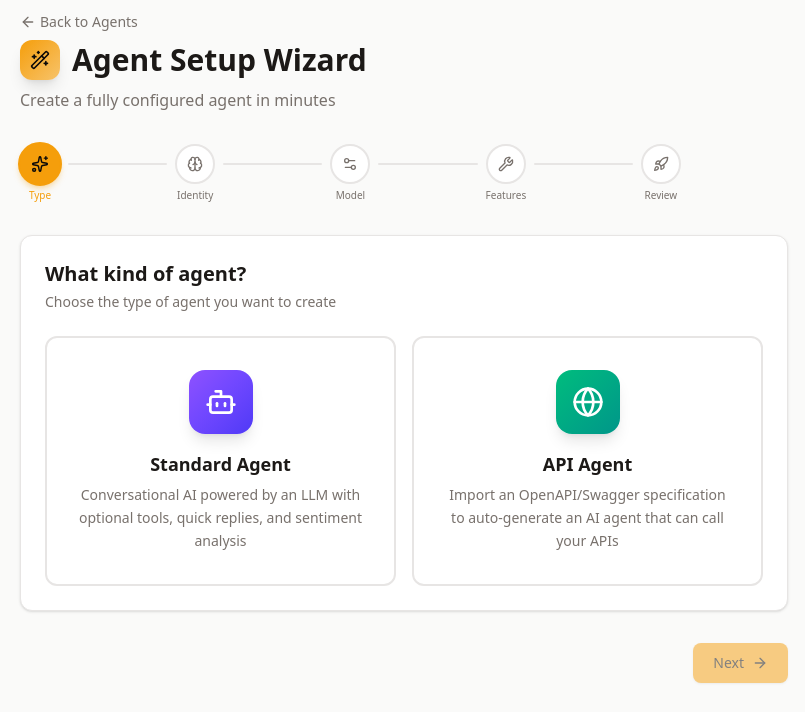
AgentWizardPage › back button navigates to previous step
This screenshot has width=805, height=712.
Click the button with test id "type-standard" at (220, 461), box [45,336,396,586]
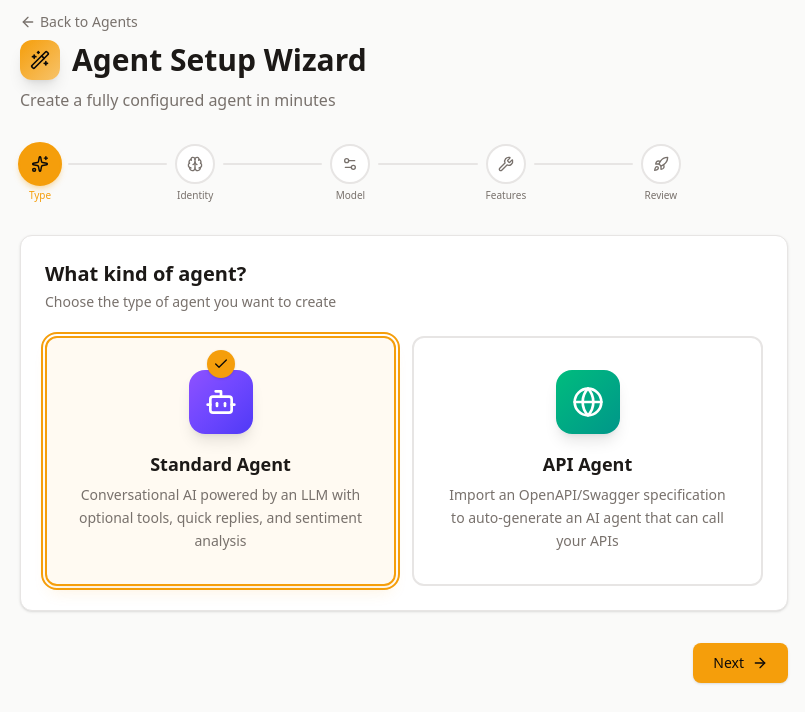
Click the button with test id "wizard-next" at (741, 663), box [693,643,788,683]
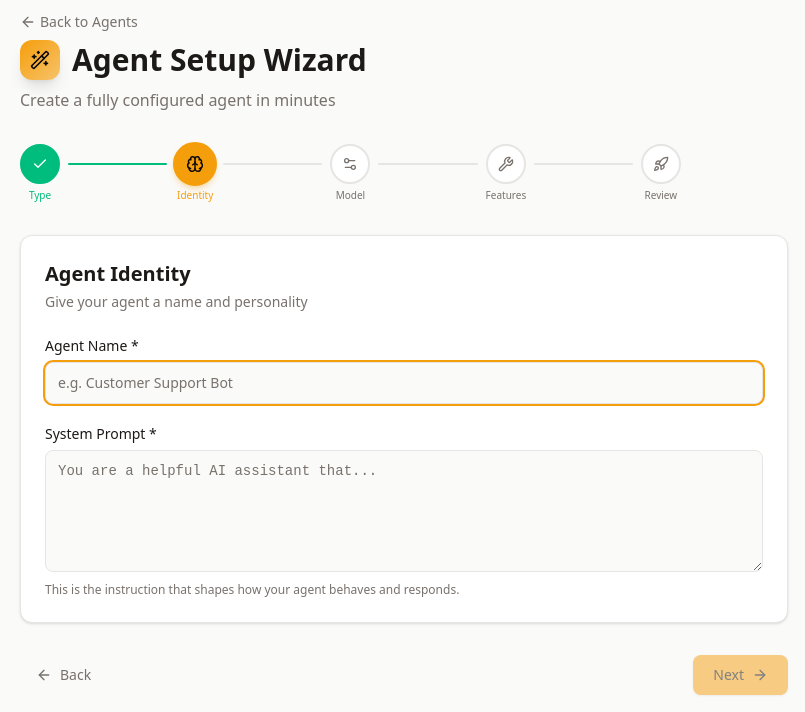
Expected: the field with test id "wizard-agent-name" is shown, [45,362,763,404]
Click the button with test id "wizard-back" at (64, 675), box [20,655,107,695]
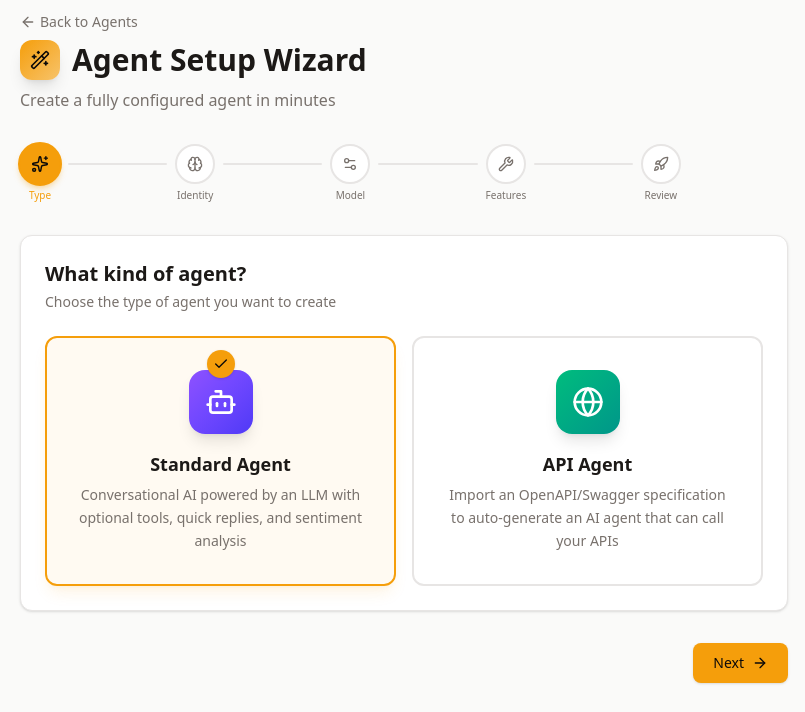
Expected: the element with test id "type-grid" is shown, [45,336,763,586]
